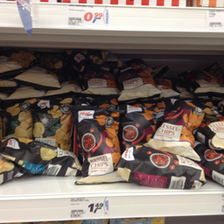chips: (72, 104, 124, 186), (120, 147, 206, 189), (2, 137, 81, 178), (147, 100, 200, 160), (115, 63, 160, 101)
